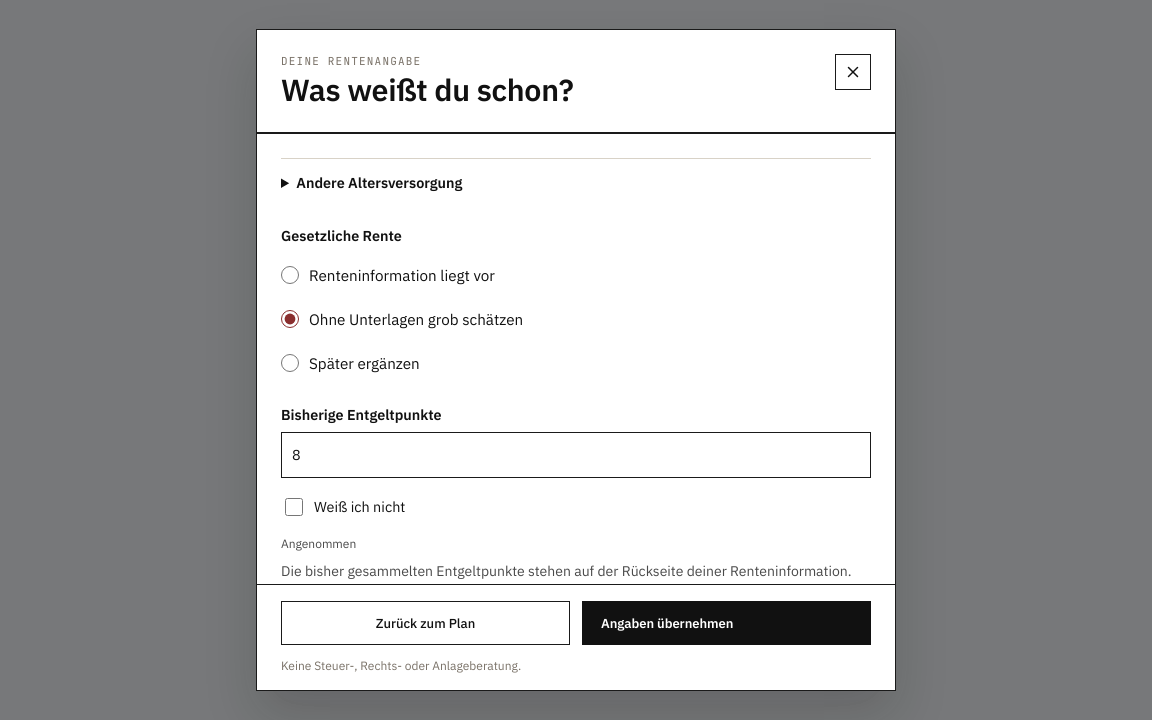
Scenario: profile and pension editing › retains career and document raw values when switching methods
Click the radio button labelled "Ohne Unterlagen grob schätzen": (290, 319) [281,310,299,328]
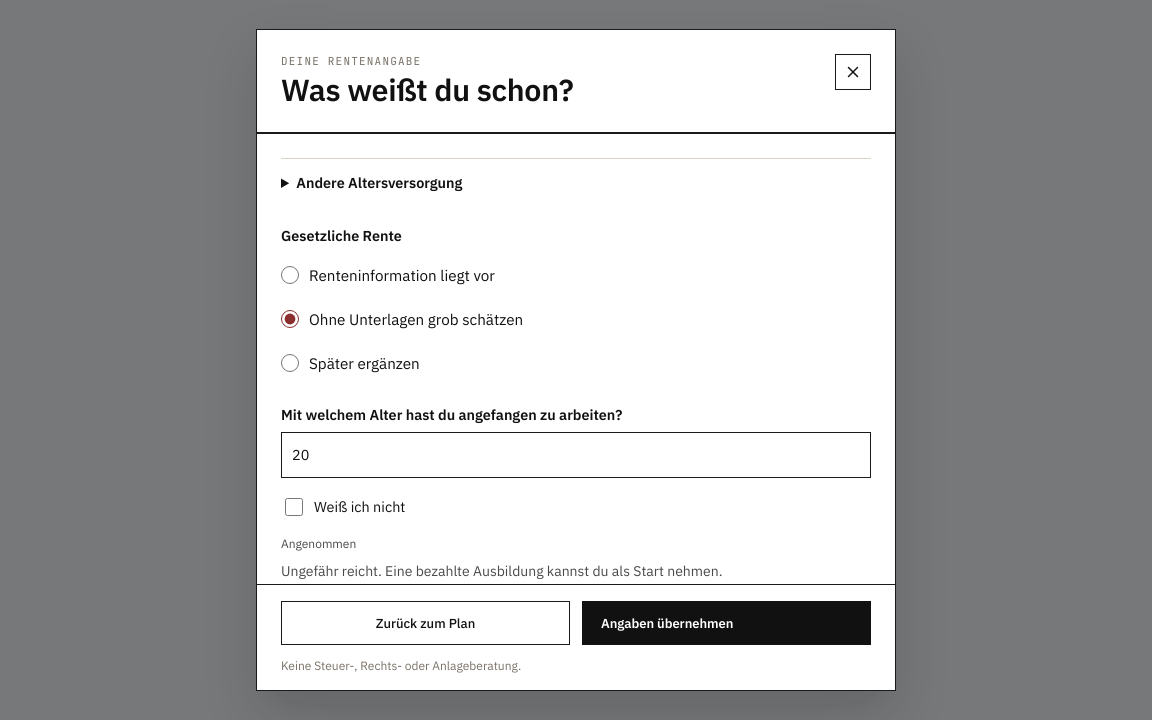
Replace the text in the number field labelled "Mit welchem Alter hast du angefangen zu arbeiten?" with "19": (576, 455) [282,433,870,477]
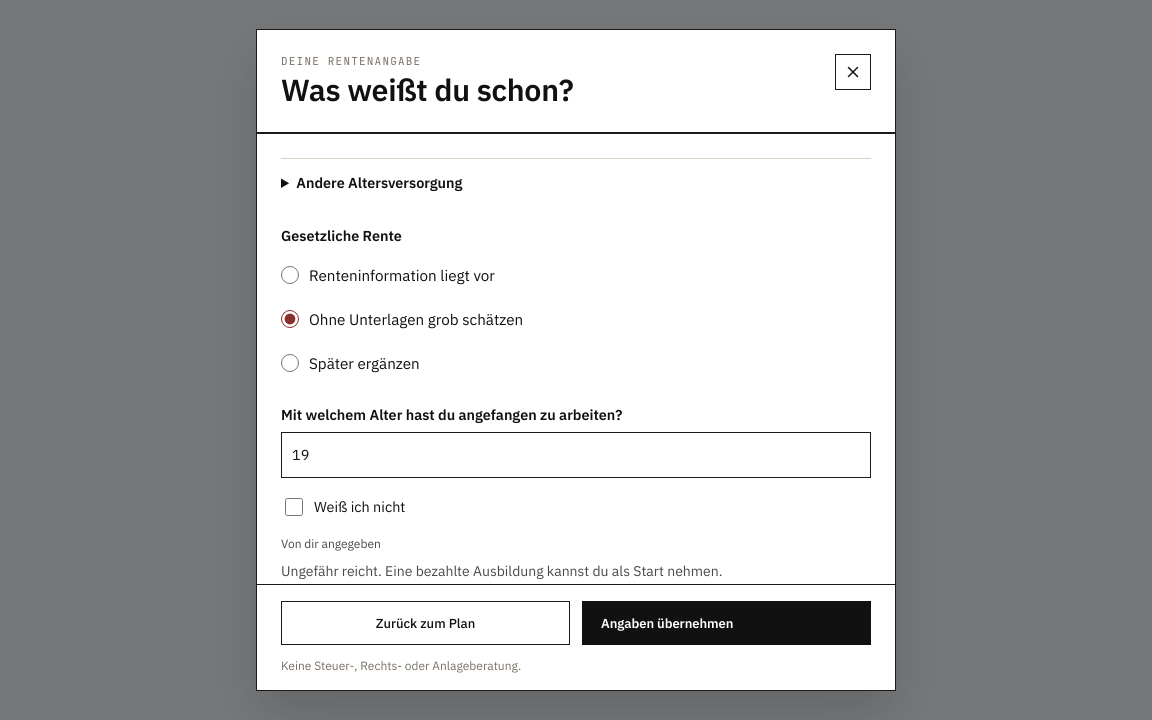
Click the radio button labelled "Renteninformation liegt vor": (290, 275) [281,266,299,284]
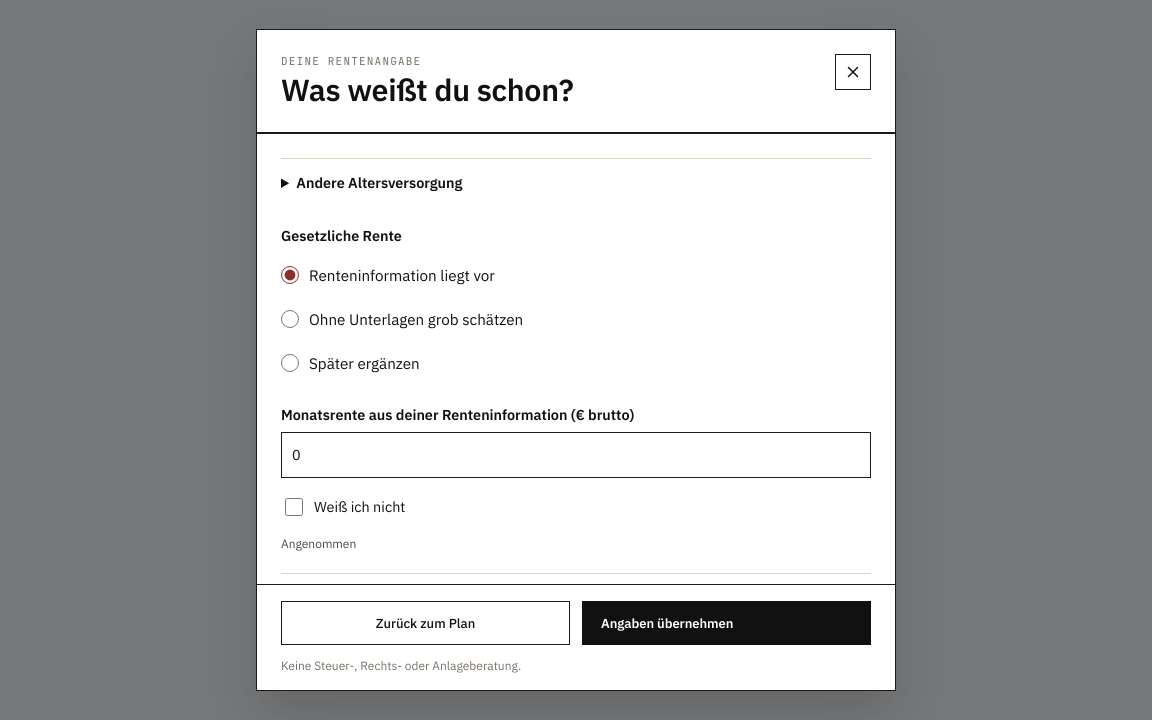
Replace the text in the number field labelled "Monatsrente aus deiner Renteninformation (€ brutto)" with "1900": (576, 455) [282,433,870,477]
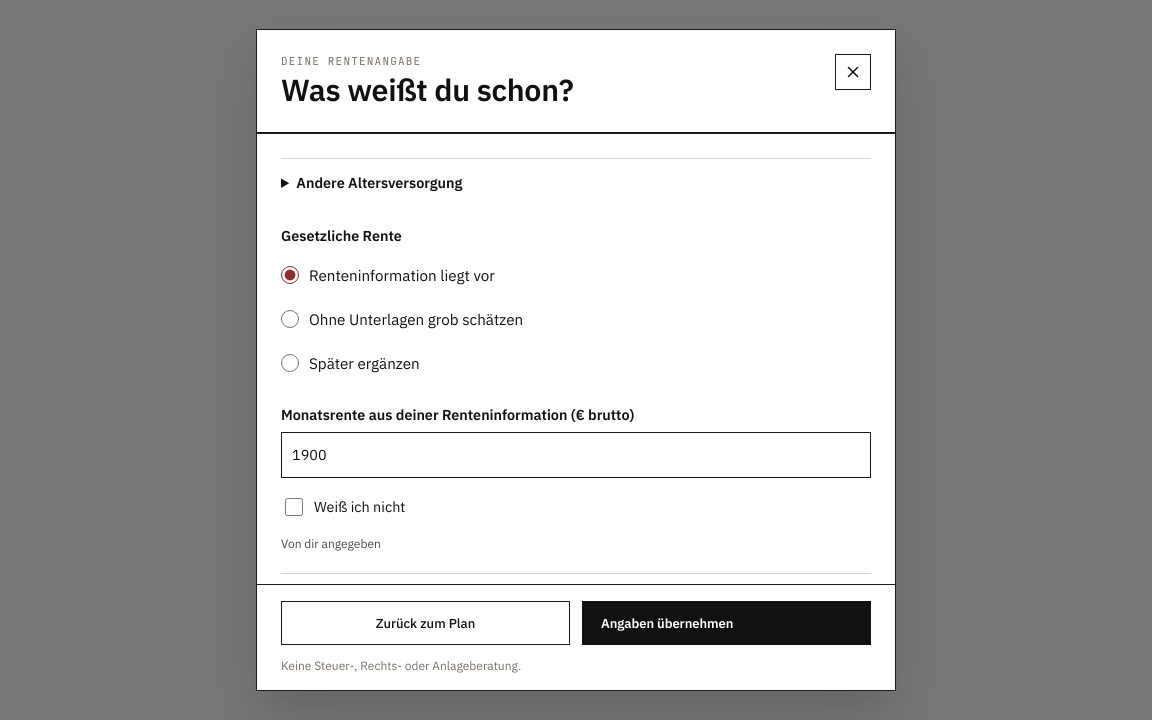
Click the radio button labelled "Ohne Unterlagen grob schätzen": (290, 319) [281,310,299,328]
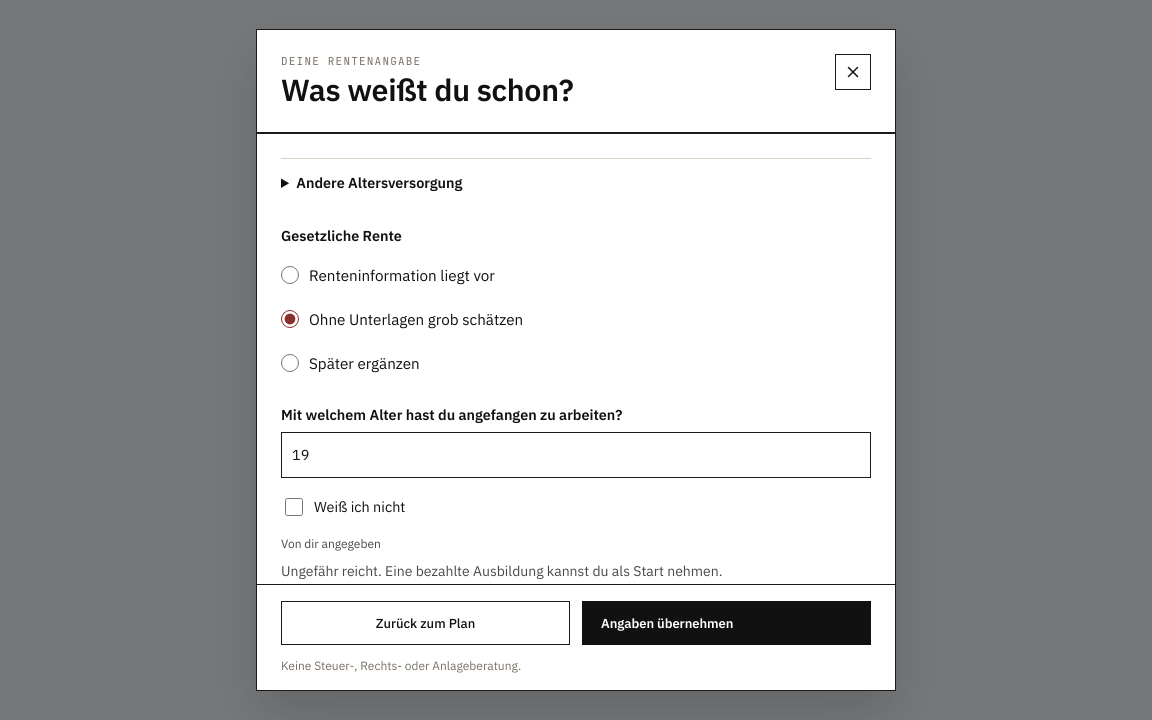
Check: the number field labelled "Mit welchem Alter hast du angefangen zu arbeiten?" holds "19", box [282,433,870,477]
Click the radio button labelled "Renteninformation liegt vor": (290, 275) [281,266,299,284]
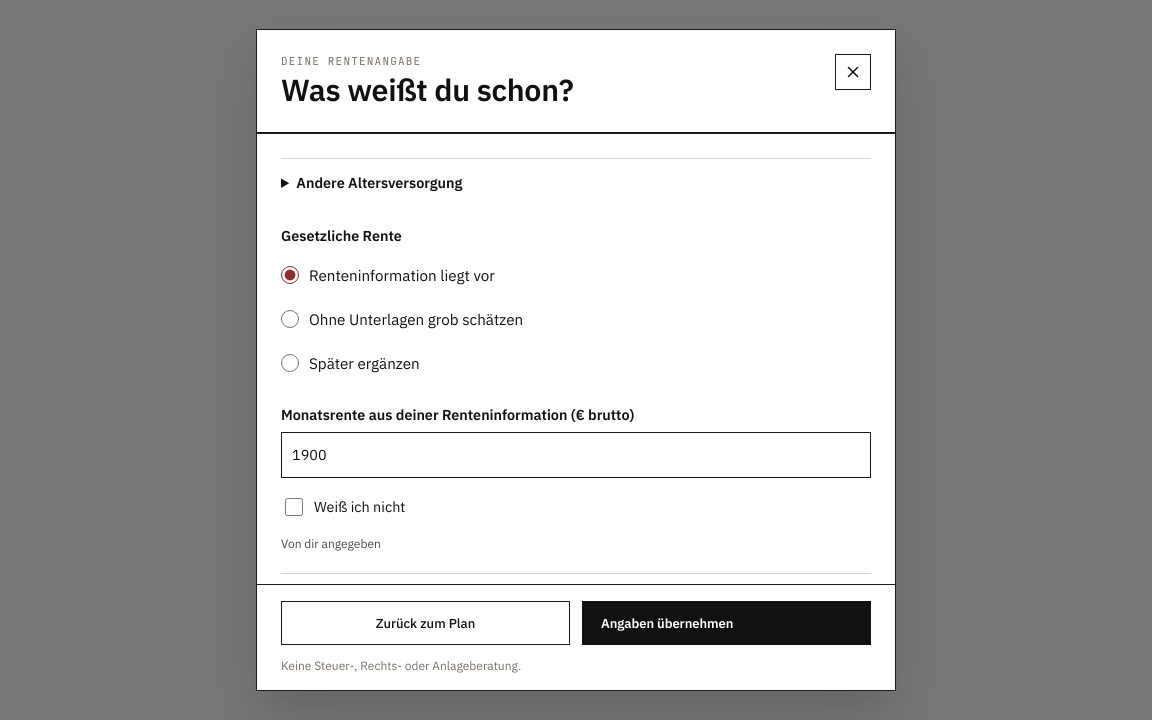
Check: the number field labelled "Monatsrente aus deiner Renteninformation (€ brutto)" holds "1900", box [282,433,870,477]
